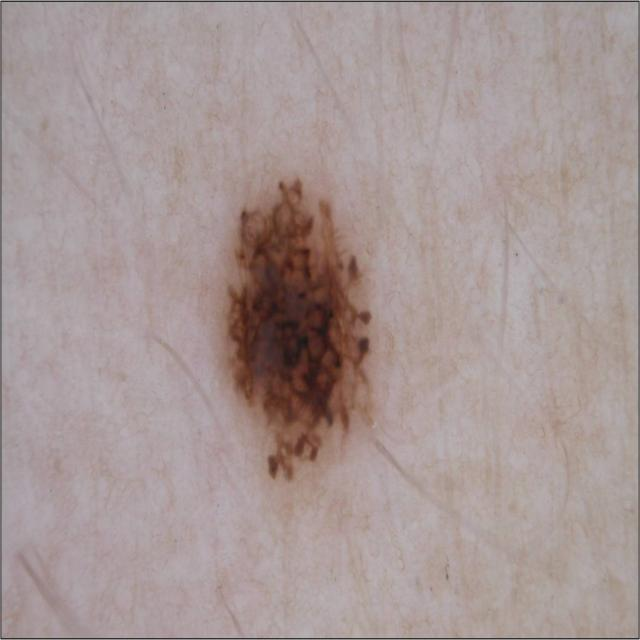Benign: (220, 170, 380, 506)
